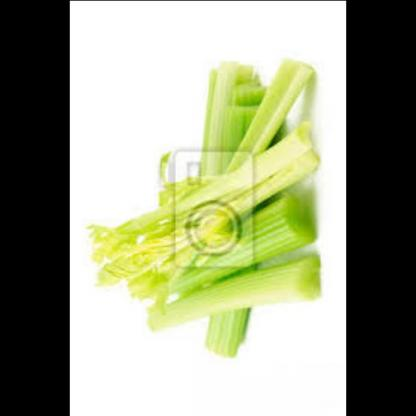celery: (85, 121, 315, 305), (197, 41, 264, 371), (140, 247, 318, 336), (207, 57, 309, 200)
